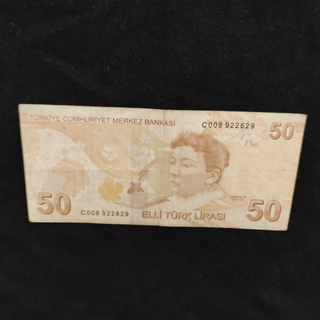50TLBack: (17, 103, 306, 232)
